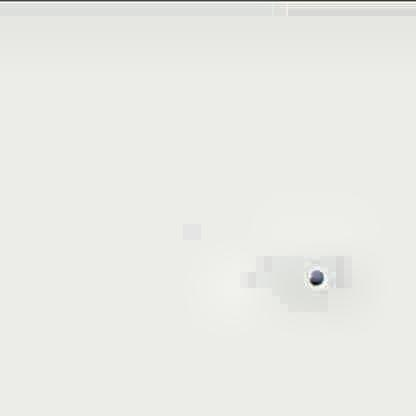golfball: (305, 266, 323, 284)
